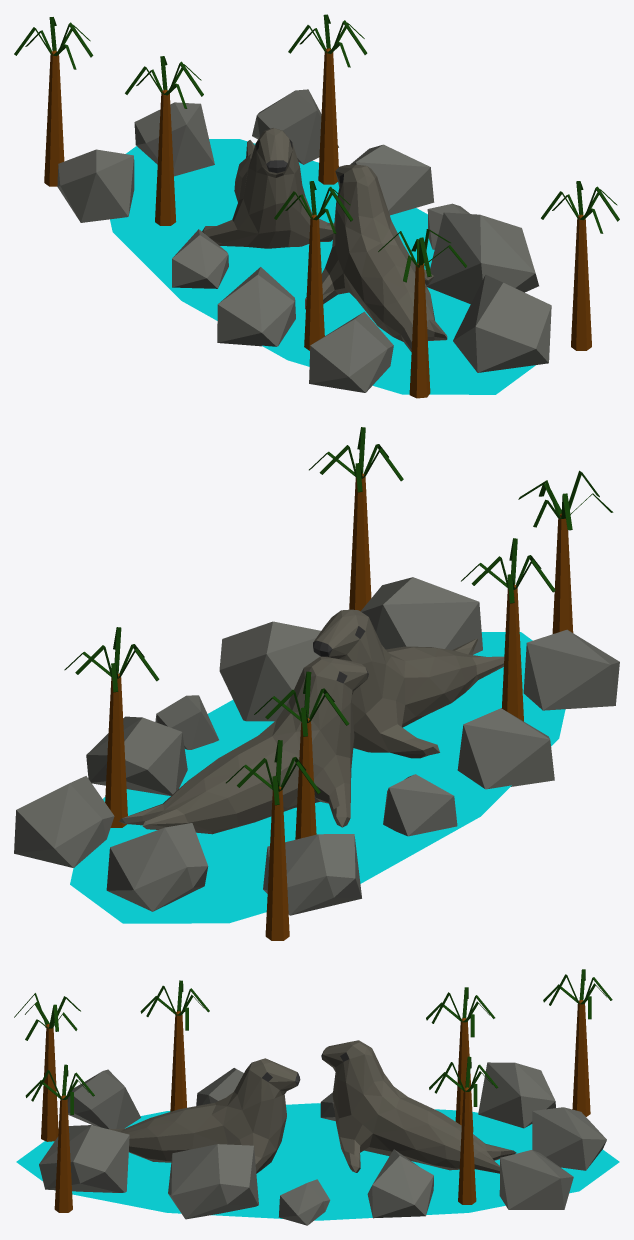
File: level 2 seal bath.fbx
The picture shows the model from 3 angles, top to bottom: view 1: azimuth 30°, elevation 25°; view 2: azimuth 150°, elevation 25°; view 3: azimuth 270°, elevation 25°; orthographic projection. The views are drawn at different scales.
Visible parts, largest first — view 1: level 2 seal bathing area; view 2: level 2 seal bathing area; view 3: level 2 seal bathing area.
Boxes of the visible parts, x1,y1,x2,y2 form: level 2 seal bathing area: (14, 14, 619, 398); level 2 seal bathing area: (14, 427, 619, 940); level 2 seal bathing area: (14, 969, 619, 1225).
Size of the model in its own units: 99.98 by 52.74 by 198.
